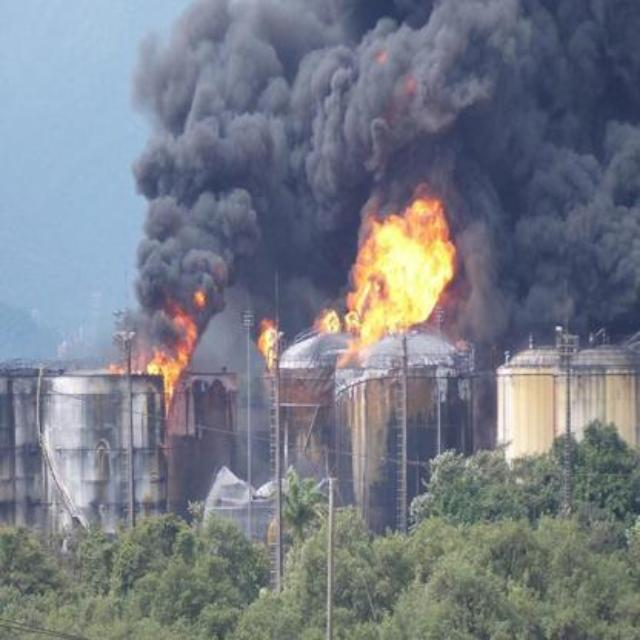Fire: (351, 192, 455, 364), (127, 290, 200, 406), (260, 320, 280, 370), (316, 310, 340, 338)
Smoke: (128, 0, 346, 294), (352, 2, 640, 192), (462, 192, 640, 330), (280, 296, 318, 332)
